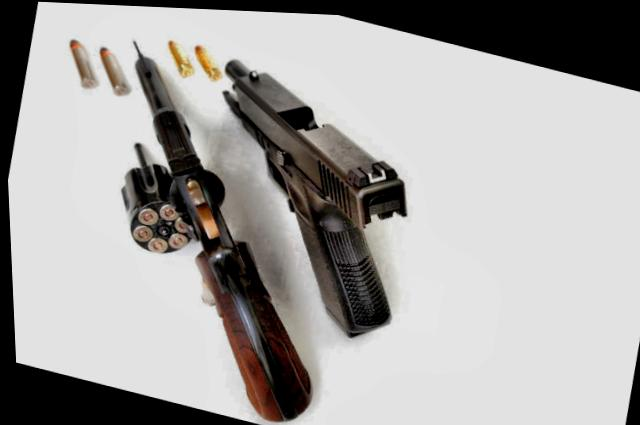pistol: (58, 34, 372, 425), (173, 51, 435, 345)
